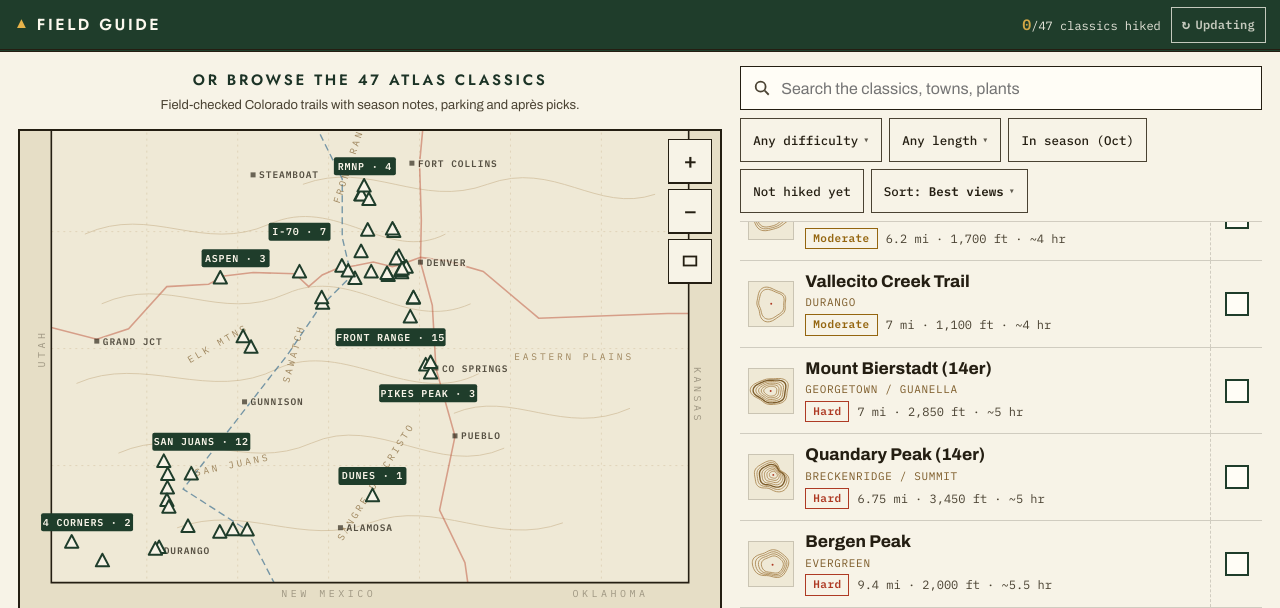
trail detail › opens as a dialog with the essentials, and syncs the URL
This screenshot has width=1280, height=608.
(page scrolled)
Click the button "Mount Bierstadt". click: (771, 391)
box: [740,348,1210,433]
(page scrolled)
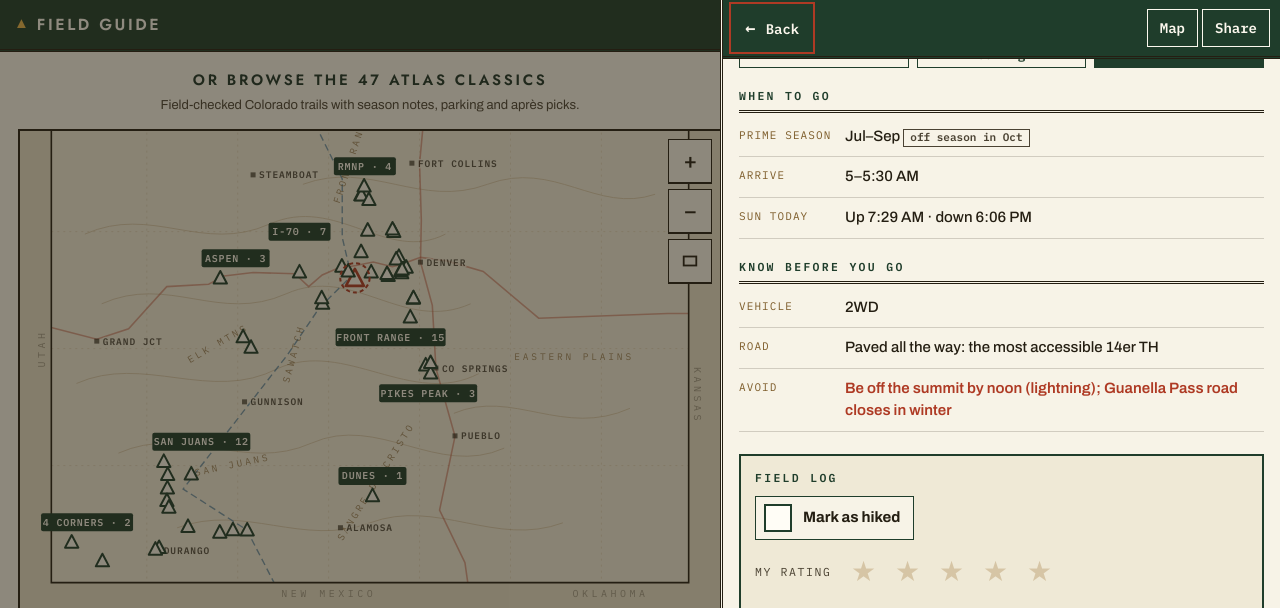
Now the text "lightning" is shown, box [845,380,1238,418]
